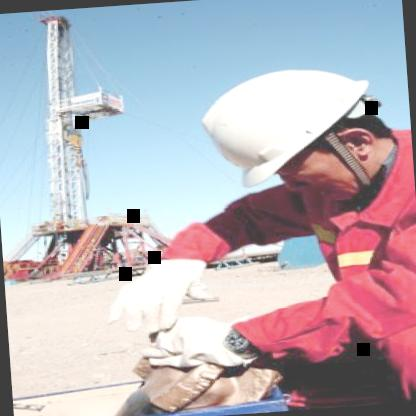helmet: (191, 57, 416, 219)
